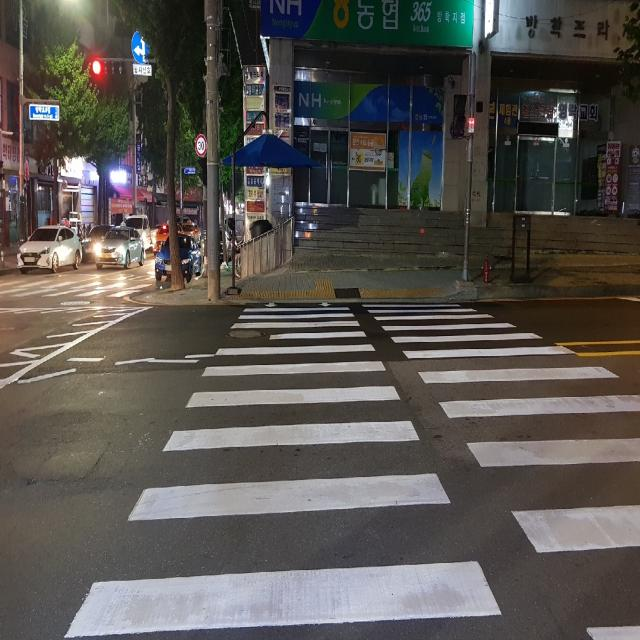횡단보도: (57, 297, 640, 640)
